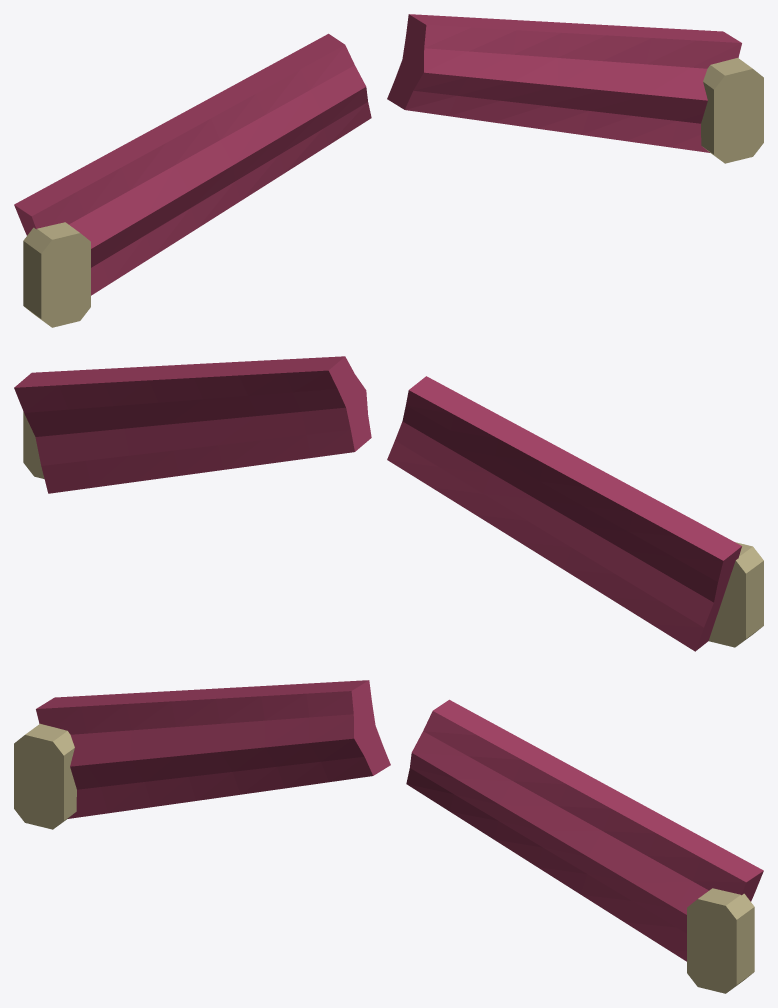
Rendered from narrow_pair.obj.
The picture shows the model from 3 angles, top to bottom: view 1: azimuth 30°, elevation 25°; view 2: azimuth 150°, elevation 25°; view 3: azimuth 330°, elevation 25°; orthographic projection.
Parts seen in each view (by area): view 1: narrow_1_narrow_sleeve, narrow_-1_narrow_sleeve, narrow_-1_narrow_sleeve_edge, narrow_1_narrow_sleeve_edge, narrow_cuff_-1, narrow_cuff_1, narrow_cuff_-1_edge, narrow_cuff_1_edge; view 2: narrow_1_narrow_sleeve_back, narrow_-1_narrow_sleeve_back, narrow_-1_narrow_sleeve_edge, narrow_1_narrow_sleeve_edge, narrow_cuff_-1, narrow_cuff_-1_edge, narrow_cuff_1; view 3: narrow_-1_narrow_sleeve, narrow_1_narrow_sleeve, narrow_1_narrow_sleeve_edge, narrow_-1_narrow_sleeve_edge, narrow_cuff_1, narrow_cuff_-1, narrow_cuff_1_edge, narrow_cuff_-1_edge.
Part boxes in pixels (x1,y1,x2,y2): narrow_1_narrow_sleeve: (405,25,741,152); narrow_-1_narrow_sleeve: (32,45,371,295); narrow_-1_narrow_sleeve_edge: (14,33,344,235); narrow_1_narrow_sleeve_edge: (387,14,741,109); narrow_cuff_-1: (41,233,90,327); narrow_cuff_1: (714,69,763,163); narrow_cuff_-1_edge: (23,222,79,326); narrow_cuff_1_edge: (701,58,752,160); narrow_1_narrow_sleeve_back: (14,370,354,493); narrow_-1_narrow_sleeve_back: (387,390,723,651); narrow_-1_narrow_sleeve_edge: (409,376,741,651); narrow_1_narrow_sleeve_edge: (14,356,371,451); narrow_cuff_-1: (708,561,745,647); narrow_cuff_-1_edge: (735,542,763,644); narrow_cuff_1: (23,411,44,478); narrow_-1_narrow_sleeve: (36,691,372,818); narrow_1_narrow_sleeve: (406,711,745,961); narrow_1_narrow_sleeve_edge: (433,699,763,901); narrow_-1_narrow_sleeve_edge: (36,680,390,775); narrow_cuff_1: (687,899,736,993); narrow_cuff_-1: (14,735,63,829); narrow_cuff_1_edge: (698,888,754,992); narrow_cuff_-1_edge: (25,723,76,826).
Bounding box in the file's own units: 2.32 × 0.6022 × 0.1891.
